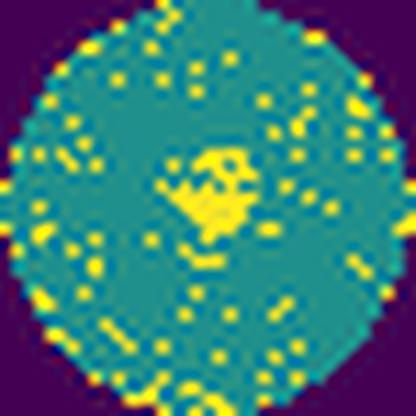Center: (161, 144, 260, 238)
